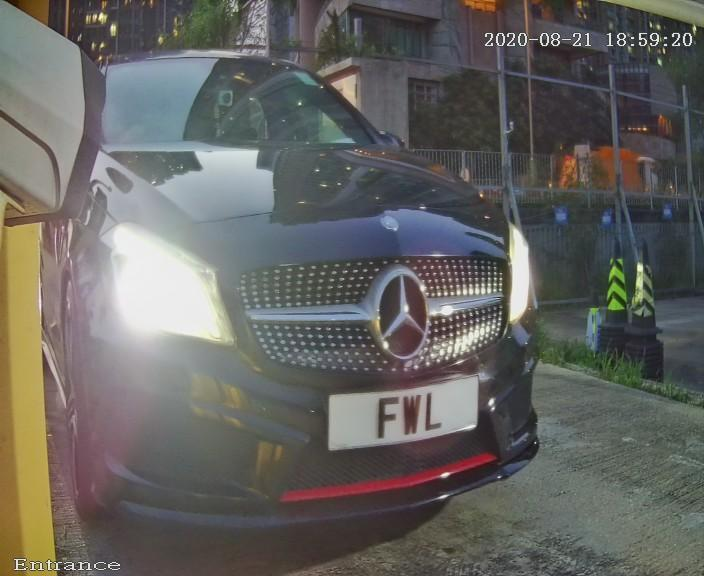Car: (26, 6, 601, 556)
License Plate: (316, 372, 490, 452)
